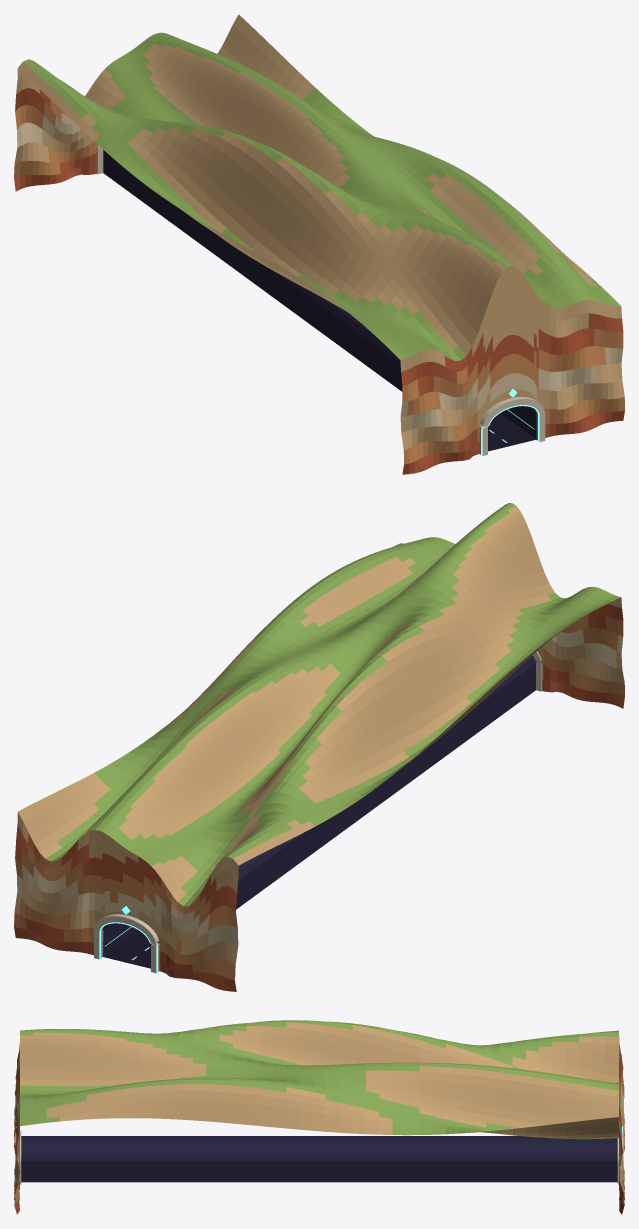
Rendered from ridge_tunnel.glb.
The picture shows the model from 3 angles, top to bottom: view 1: azimuth 30°, elevation 25°; view 2: azimuth 150°, elevation 25°; view 3: azimuth 270°, elevation 25°; orthographic projection. The views are drawn at different scales.
Parts seen in each view (by area): view 1: ridge_tunnel; view 2: ridge_tunnel; view 3: ridge_tunnel.
Boxes of the visible parts, x1=… form: ridge_tunnel: x1=14, y1=14, x2=624, y2=474; ridge_tunnel: x1=14, y1=503, x2=624, y2=991; ridge_tunnel: x1=14, y1=1020, x2=624, y2=1214.
Size of the model in its own units: 60 by 47.1 by 184.
